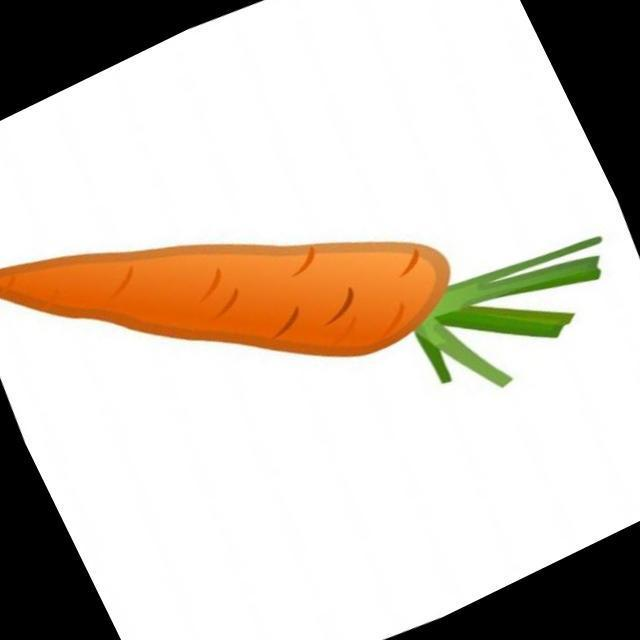Carrot: (0, 236, 600, 386)
